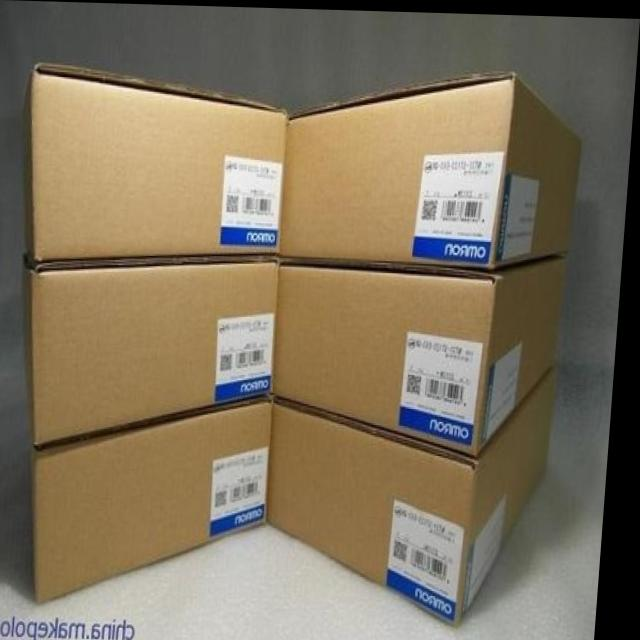box: (276, 362, 561, 626), (280, 251, 571, 454), (285, 68, 584, 264), (24, 59, 288, 261), (36, 394, 280, 604), (29, 256, 284, 445)
